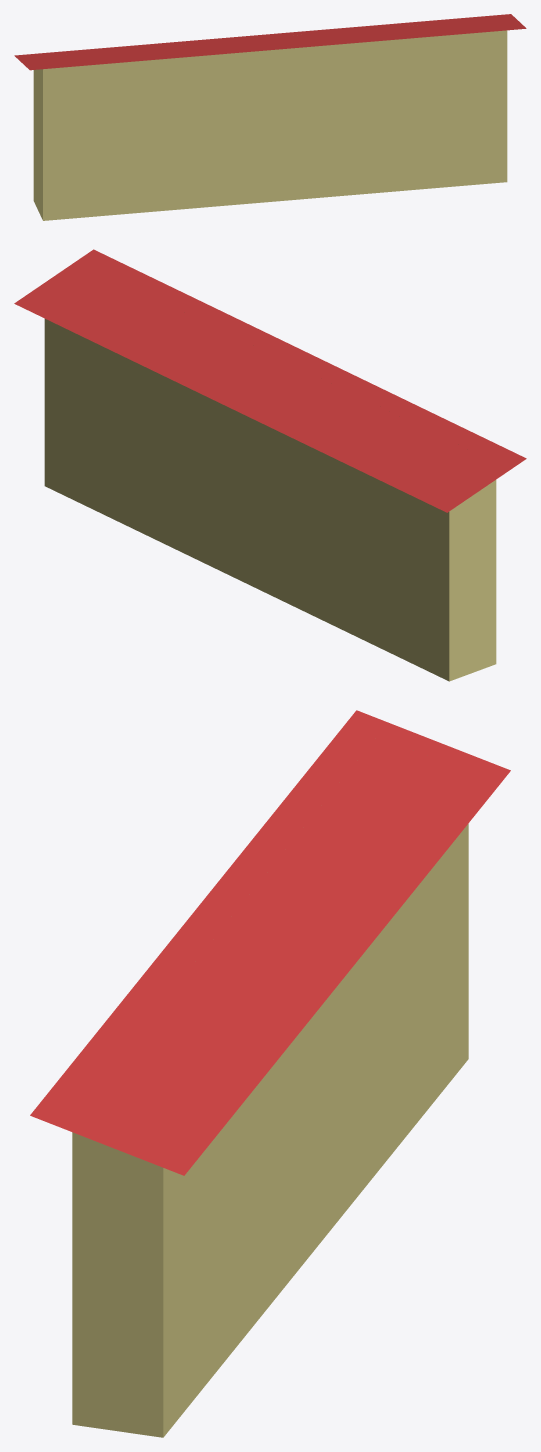
The picture shows the model from 3 angles, top to bottom: view 1: azimuth 30°, elevation 25°; view 2: azimuth 150°, elevation 25°; view 3: azimuth 270°, elevation 25°; orthographic projection. The views are drawn at different scales.
Parts seen in each view (by area): view 1: group_5, group_3, group_4; view 2: group_5, group_3, group_4; view 3: group_5, group_3, group_4.
Part boxes in pixels (<box>): group_5: <box>33,30,507,220</box>; group_3: <box>34,14,526,69</box>; group_4: <box>14,14,510,70</box>; group_5: <box>44,319,496,681</box>; group_3: <box>15,249,522,507</box>; group_4: <box>14,284,526,512</box>; group_5: <box>72,823,468,1437</box>; group_3: <box>30,711,469,1175</box>; group_4: <box>83,710,510,1175</box>.
Bounding box in the file's own units: 15.08 × 7.17 × 5.23.
